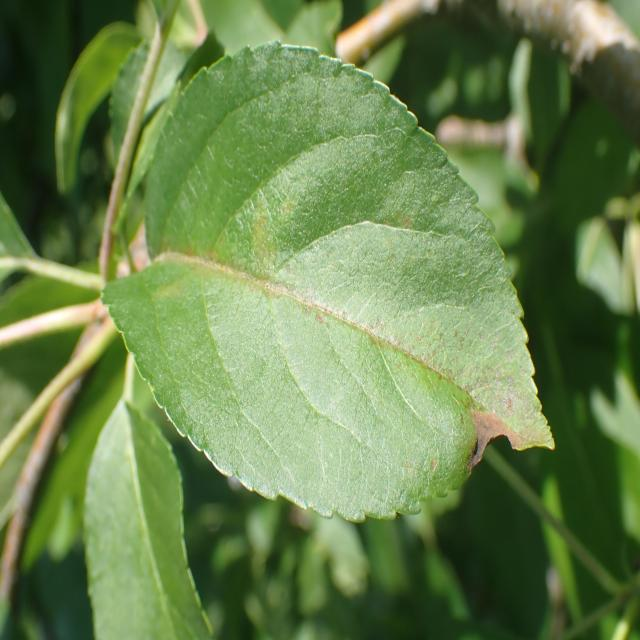scab: (125, 193, 544, 504)
